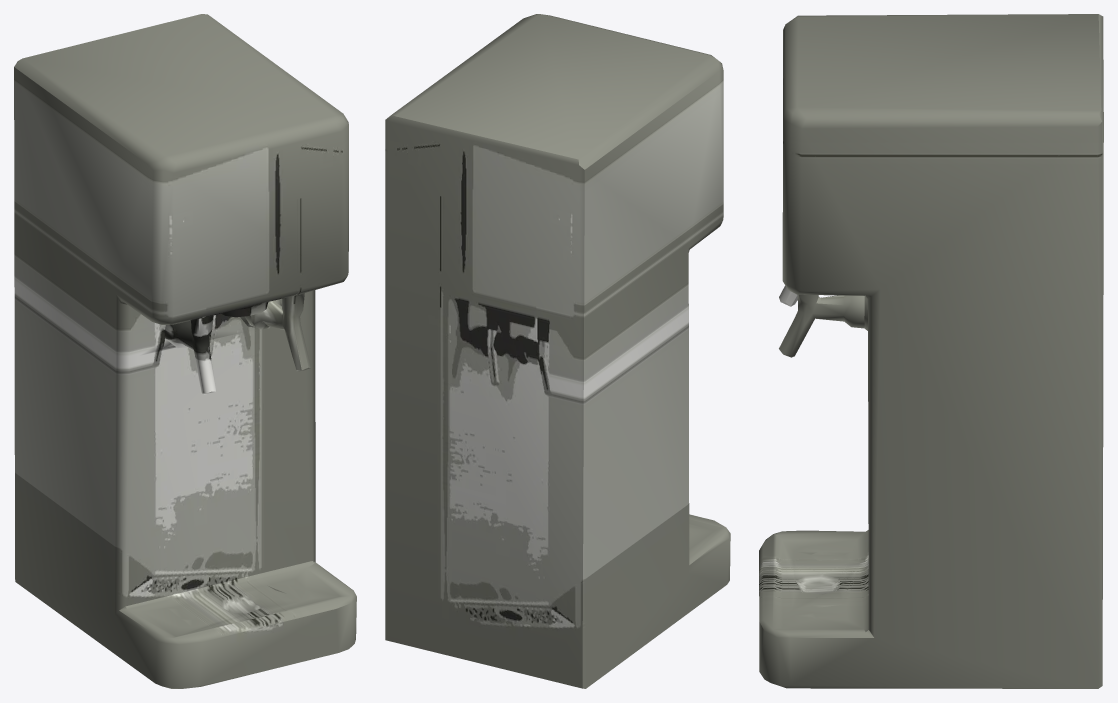
3 renders of one model, left to right at view 1: azimuth 30°, elevation 25°; view 2: azimuth 150°, elevation 25°; view 3: azimuth 270°, elevation 25°, orthographic. The views are drawn at different scales.
Parts seen in each view (by area): view 1: Decor_drink_dispenser_b; view 2: Decor_drink_dispenser_b; view 3: Decor_drink_dispenser_b.
Part boxes in pixels (left/top/right/bottom): Decor_drink_dispenser_b: left=14, top=14, right=356, bottom=688; Decor_drink_dispenser_b: left=385, top=14, right=730, bottom=688; Decor_drink_dispenser_b: left=759, top=14, right=1103, bottom=688.
Bounding box in the file's own units: 0.7169 × 1.8 × 0.9781.
Materials: 1 (1 with a texture image).
